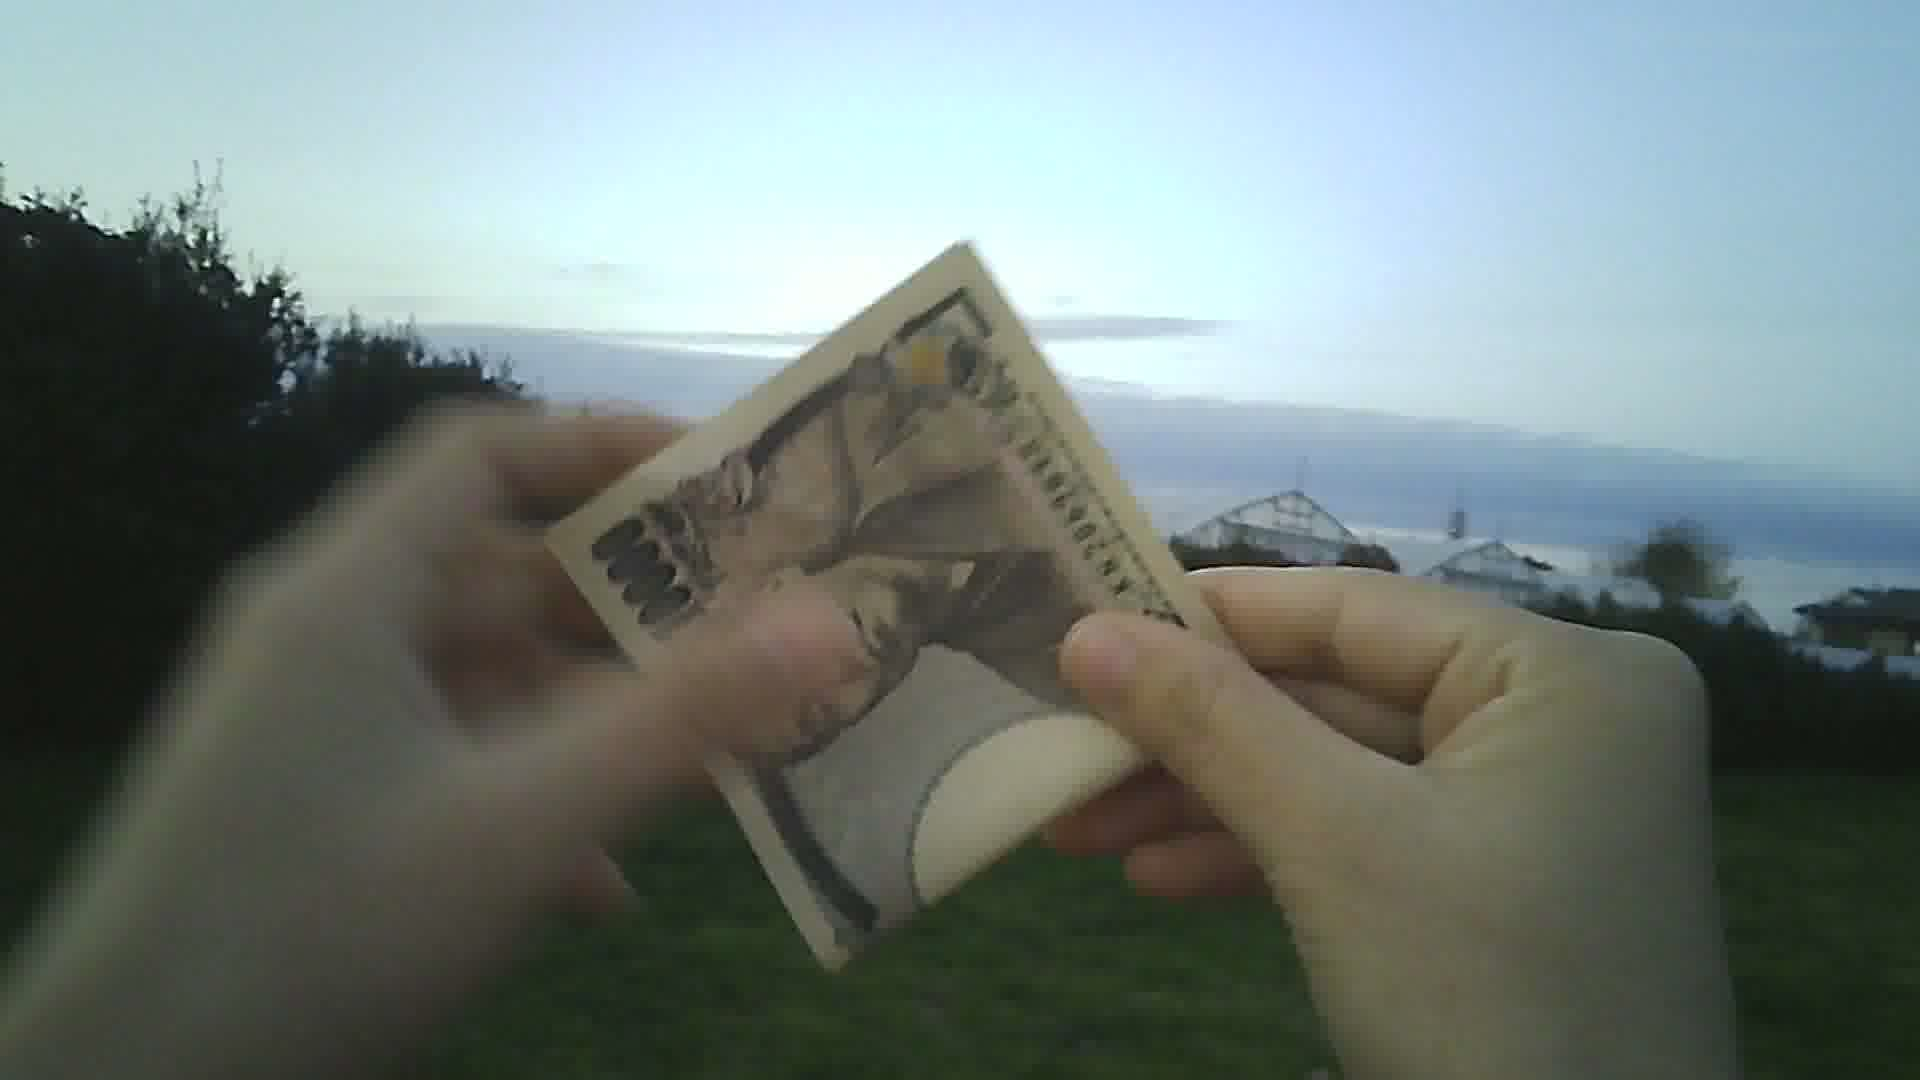10,000 Yen: (546, 256, 1241, 976)
